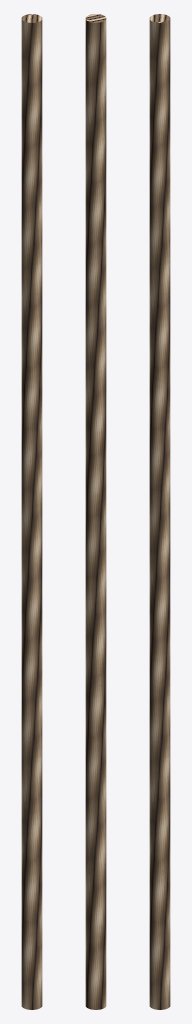
Rendered from rope.FBX.
The picture shows the model from 3 angles, left to right: view 1: azimuth 90°, elevation 25°; view 2: azimuth 210°, elevation 25°; view 3: azimuth 270°, elevation 25°; orthographic projection.
Parts seen in each view (by area): view 1: Cylinder001; view 2: Cylinder001; view 3: Cylinder001.
Boxes of the visible parts, bbox=[...] form: Cylinder001: bbox=[21, 14, 42, 1009]; Cylinder001: bbox=[85, 14, 106, 1009]; Cylinder001: bbox=[149, 14, 170, 1009].
Bounding box in the file's own units: 3.59 × 183 × 3.53.
